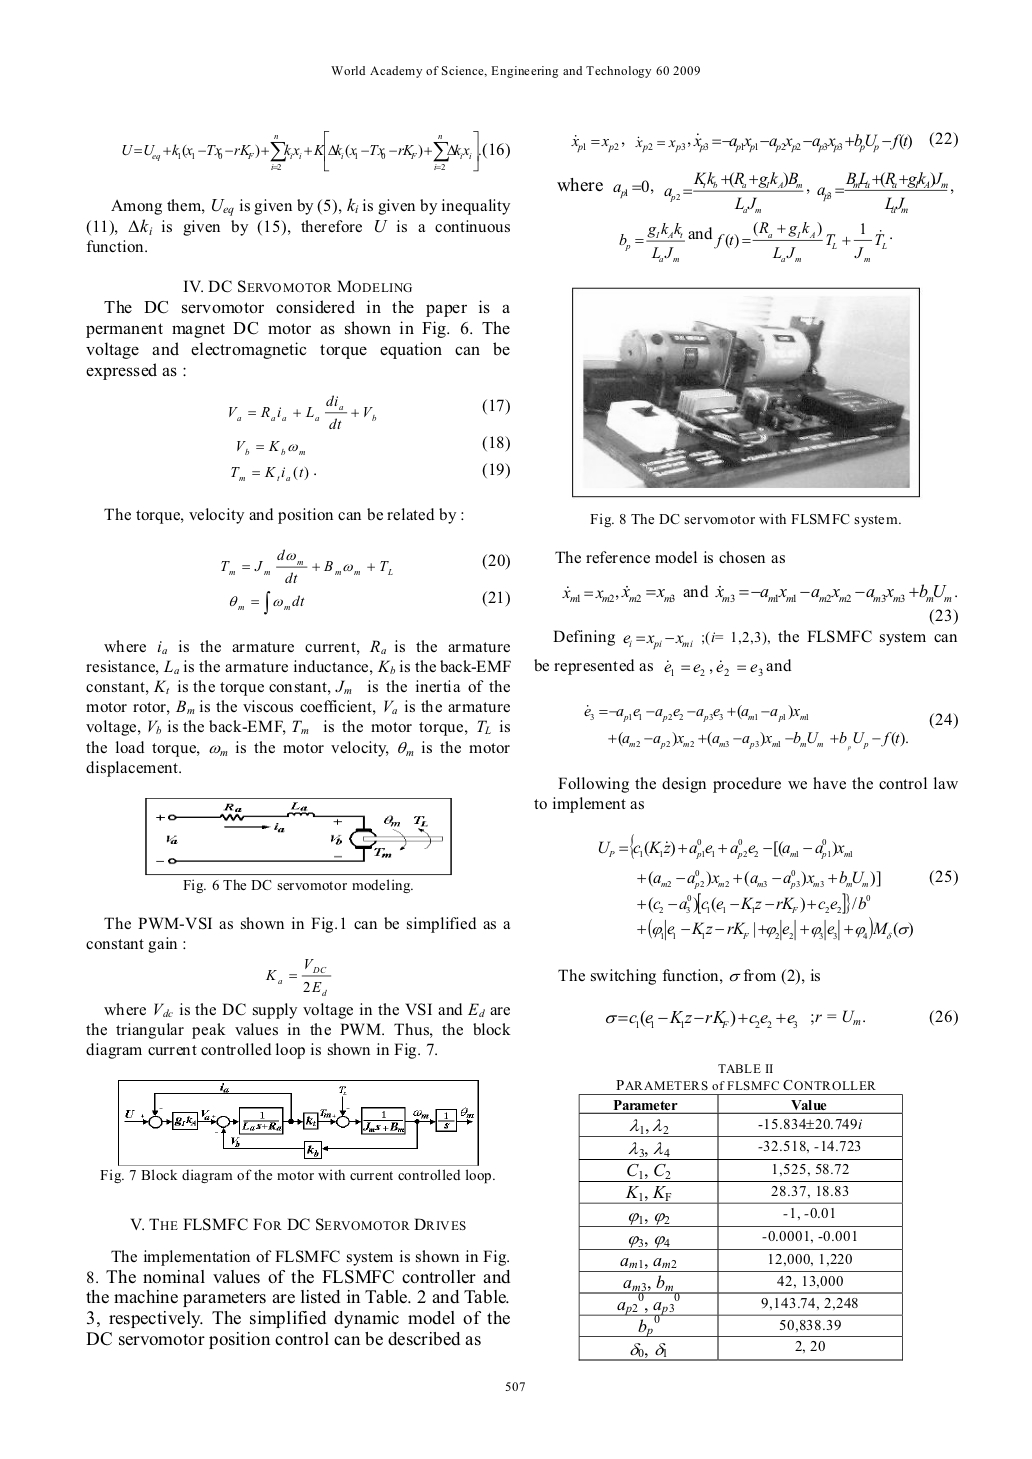Table: (579, 1078, 902, 1361)
figure: (572, 286, 919, 499), (118, 1078, 478, 1167), (145, 797, 451, 876)
formula: (557, 171, 953, 213), (122, 129, 509, 172), (637, 892, 912, 941), (619, 221, 891, 262), (221, 548, 509, 584), (229, 394, 509, 430), (584, 704, 957, 729), (571, 131, 957, 153), (562, 582, 956, 603), (605, 1008, 957, 1029), (229, 591, 509, 615), (598, 833, 852, 860), (637, 868, 957, 889), (608, 731, 907, 751), (237, 435, 509, 455), (231, 462, 509, 481), (265, 958, 331, 996)
